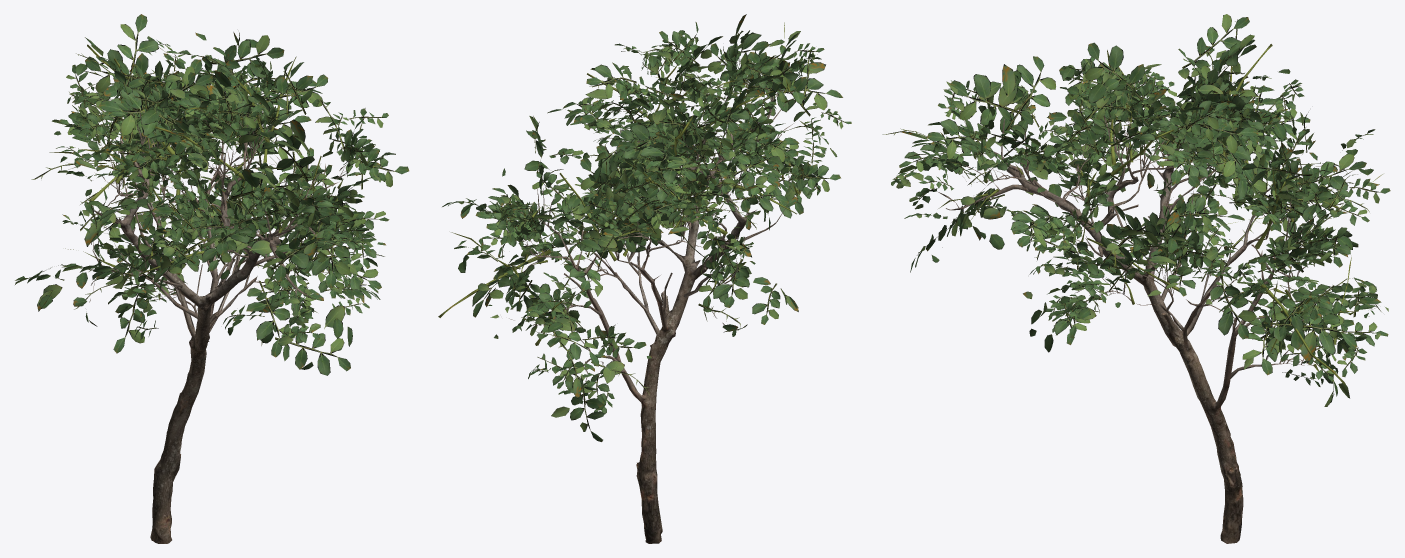
Rendered from arv4-medio.glb.
3 renders of one model, left to right at view 1: azimuth 30°, elevation 25°; view 2: azimuth 150°, elevation 25°; view 3: azimuth 270°, elevation 25°, orthographic. The views are drawn at different scales.
Visible parts, largest first — view 1: tree_small_02_LOD0; view 2: tree_small_02_LOD0; view 3: tree_small_02_LOD0.
Part boxes in pixels (left/top/right/bottom): tree_small_02_LOD0: left=15, top=14, right=409, bottom=543; tree_small_02_LOD0: left=438, top=14, right=851, bottom=543; tree_small_02_LOD0: left=882, top=14, right=1390, bottom=543.
Bounding box in the file's own units: 3.11 × 4.7 × 4.38.
3 materials, 3 textured.
